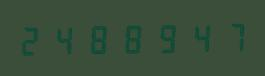eight: (83, 20, 115, 56), (116, 20, 148, 55)
four: (50, 21, 82, 56), (182, 19, 214, 54)
nine: (149, 19, 181, 55)
seven: (215, 18, 247, 53)
two: (17, 22, 49, 57)
